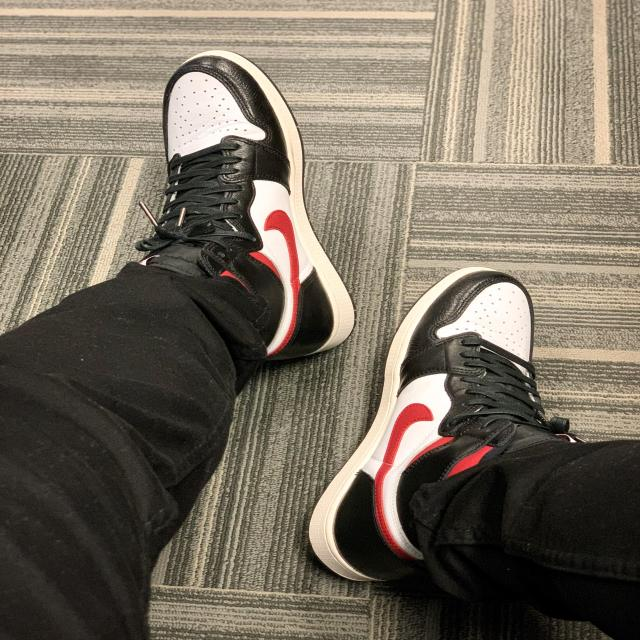shoes: (271, 260, 617, 622), (145, 76, 379, 330)
